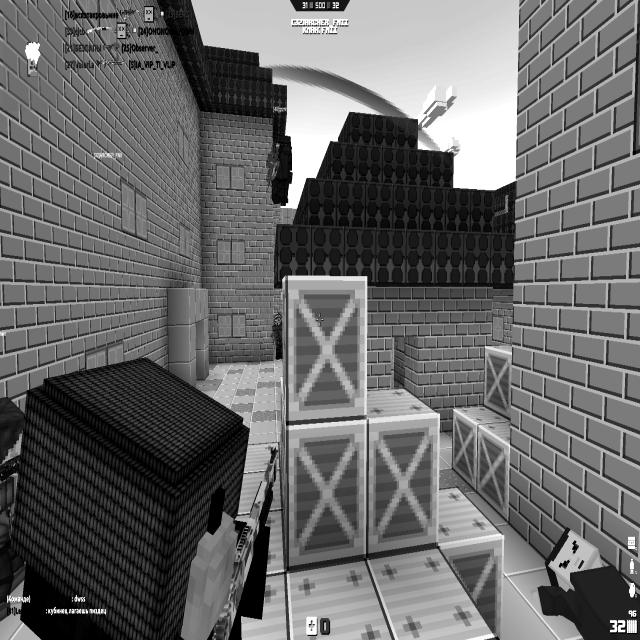Head: (11, 356, 250, 638), (544, 529, 602, 591), (0, 394, 25, 464), (276, 135, 291, 151), (273, 313, 282, 326)
Player: (533, 527, 640, 639), (0, 395, 30, 617), (270, 131, 294, 204), (272, 311, 283, 360)
